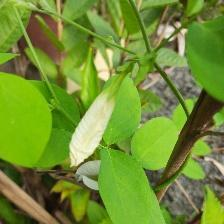shankupushpam: (63, 82, 131, 172)
